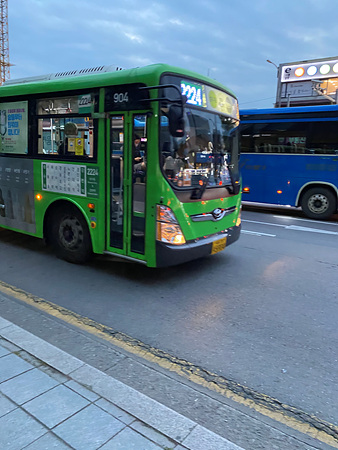entrance: (108, 103, 156, 266)
